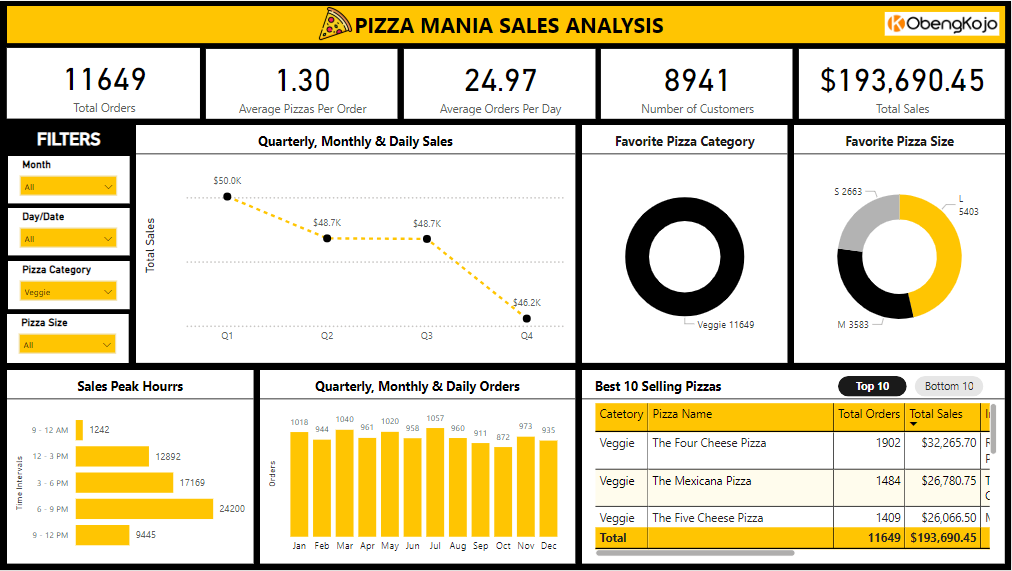

What the dashboard file says about the page in this screenshot:
{"tool":"powerbi","page":{"name":"Home page","canvas":[1280,720],"ordinal":0},"visuals":[{"type":"textbox","box":[11.3,6.1,1260.6,46.8],"z":0},{"type":"tableEx","title":"Best Selling Pizzas","fields":{"Values":["Pizza_Types.Catetory","Pizza_Types.Pizza Name","Measures (2).Total Orders","Measures (2).Total Sales","Pizza_Types.Ingredients"]},"box":[736.3,468,532.6,243.6],"z":1000},{"type":"tableEx","title":"Worst Selling Pizzas","fields":{"Values":["Pizza_Types.Catetory","Pizza_Types.Pizza Name","Measures (2).Total Orders","Measures (2).Total Sales"]},"box":[736.3,468,532.6,240.9],"z":2000},{"type":"bookmarkNavigator","box":[1060.6,473.9,185,26.1],"z":3000},{"type":"image","box":[1113.9,9.4,156.1,40],"z":4000},{"type":"lineChart","title":"Quarterly, Monthly & Daily Sales","fields":{"Category":["Date.Quarter","Date.Month","Date.Day"],"Y":["Measures (2).Total Sales"]},"box":[172,157,556,301.2],"z":5000},{"type":"donutChart","title":"Favorite Pizza Category","fields":{"Category":["Pizza_Types.Catetory"],"Y":["Sum(Order_Details.Order Quantity)"]},"box":[736.3,156.9,260.1,301.4],"z":6000},{"type":"card","fields":{"Values":["Measures (2).Average Pizzas Per Order"]},"box":[645.5,60.6,308.3,88.1],"z":7000},{"type":"card","fields":{"Values":["Measures (2).Total Orders"]},"box":[328.6,60,307.1,88.6],"z":8000},{"type":"card","fields":{"Values":["Measures (2).Average Orders Per Day"]},"box":[963,60,308.5,88.5],"z":9000},{"type":"card","fields":{"Values":["Measures (2).Total Sales"]},"box":[11.4,60,308.6,88.6],"z":10000},{"type":"slicer","title":"Sales by Day","fields":{"Values":["Date.Day"]},"box":[9.6,262.3,154.3,60.4],"z":11000},{"type":"slicer","title":"Sales by Day","fields":{"Values":["Date.Month"]},"box":[9.6,193.9,154.3,62],"z":12000},{"type":"slicer","title":"Sales by Day","fields":{"Values":["Pizza_Types.Catetory"]},"box":[9.6,328.9,154.2,60.6],"z":13000},{"type":"slicer","title":"Sales by Day","fields":{"Values":["Pizzas.Pizza Size"]},"box":[9.4,396.1,153.9,62.2],"z":14000},{"type":"textbox","box":[9.5,156.4,153.6,34.1],"z":15000},{"type":"barChart","title":"Sales Peak Hourrs","fields":{"Category":["Orders.Time Intervals"],"Y":["Sum(Orders.Time Interval Sort)"]},"box":[8.3,466.6,312.4,245],"z":16000},{"type":"clusteredColumnChart","title":"Quarterly, Monthly & Daily Orders","fields":{"Category":["Date.Quarter","Date.Month","Date.Day"],"Y":["Sum(Order_Details.Order Quantity)"]},"box":[328.9,466.6,399.1,245],"z":17000},{"type":"donutChart","title":"Favorite Pizza Size","fields":{"Y":["Sum(Order_Details.Order Quantity)"],"Category":["Pizzas.Pizza Size"]},"box":[1004.7,156.9,267,301.4],"z":18000},{"type":"image","box":[440.4,2.8,61.9,52.3],"z":19000}]}

Visuals, with their boxes in screenshot pixels (x1, y1, x2, y2), scaled from the page's 1280x720 canvas onto the 1012x571 screenshot:
textbox: bbox=[9, 5, 1006, 42]
"Best Selling Pizzas" tableEx: bbox=[582, 371, 1003, 564]
"Worst Selling Pizzas" tableEx: bbox=[582, 371, 1003, 562]
bookmarkNavigator: bbox=[839, 376, 985, 397]
image: bbox=[881, 7, 1004, 39]
"Quarterly, Monthly & Daily Sales" lineChart: bbox=[136, 125, 576, 363]
"Favorite Pizza Category" donutChart: bbox=[582, 124, 788, 363]
card - Measures (2).Average Pizzas Per Order: bbox=[510, 48, 754, 118]
card - Measures (2).Total Orders: bbox=[260, 48, 503, 118]
card - Measures (2).Average Orders Per Day: bbox=[761, 48, 1005, 118]
card - Measures (2).Total Sales: bbox=[9, 48, 253, 118]
"Sales by Day" slicer: bbox=[8, 208, 130, 256]
"Sales by Day" slicer: bbox=[8, 154, 130, 203]
"Sales by Day" slicer: bbox=[8, 261, 130, 309]
"Sales by Day" slicer: bbox=[7, 314, 129, 363]
textbox: bbox=[8, 124, 129, 151]
"Sales Peak Hourrs" barChart: bbox=[7, 370, 254, 564]
"Quarterly, Monthly & Daily Orders" clusteredColumnChart: bbox=[260, 370, 576, 564]
"Favorite Pizza Size" donutChart: bbox=[794, 124, 1005, 363]
image: bbox=[348, 2, 397, 44]
